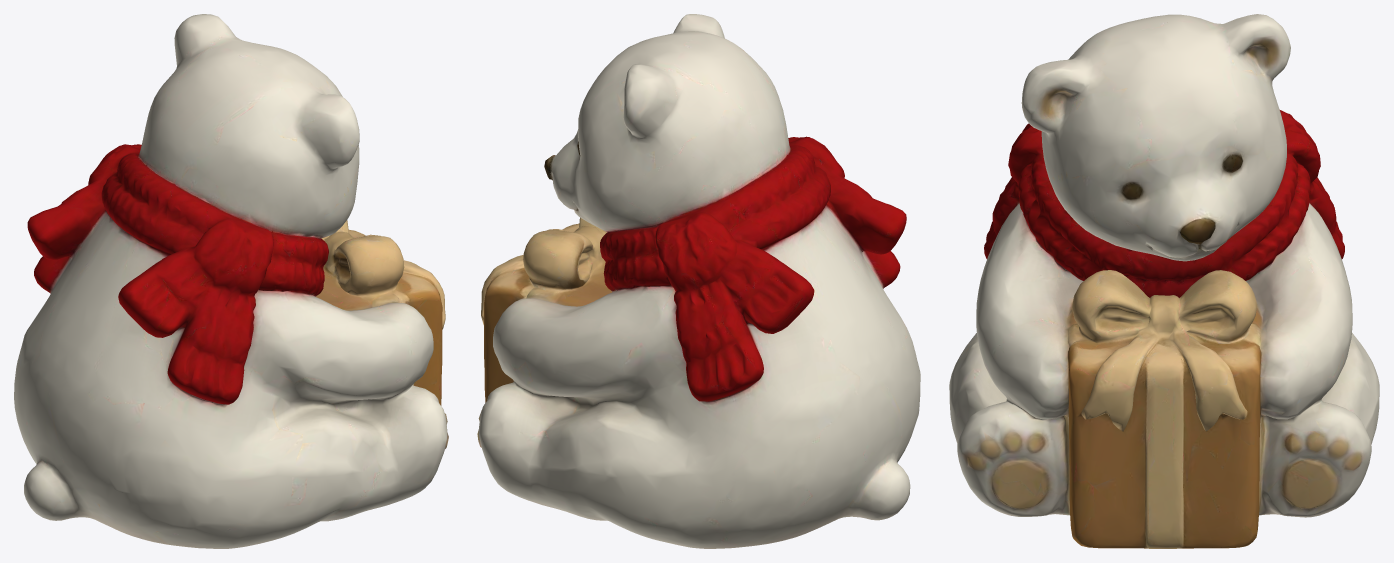
The model's file is bear.glb.
3 views of the same model, side by side, from view 1: azimuth 30°, elevation 25°; view 2: azimuth 150°, elevation 25°; view 3: azimuth 270°, elevation 25° (orthographic). The views are drawn at different scales.
Size of the model in its own units: 1.89 by 2 by 1.69.
Materials: 1 (1 with a texture image).
